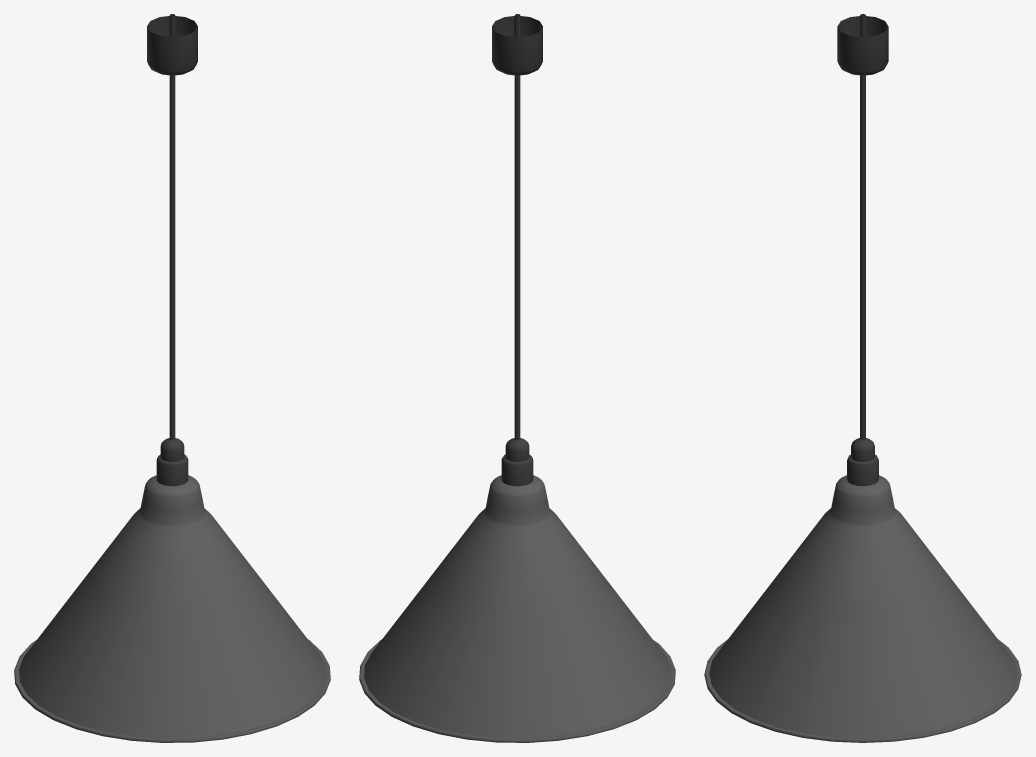
Rendered from SM_LampS1.fbx.
3 views of the same model, side by side, from view 1: azimuth 30°, elevation 25°; view 2: azimuth 150°, elevation 25°; view 3: azimuth 270°, elevation 25° (orthographic).
Parts seen in each view (by area): view 1: SM_LampS1_LOD0; view 2: SM_LampS1_LOD0; view 3: SM_LampS1_LOD0.
Boxes of the visible parts, x1,y1,x2,y2 form: SM_LampS1_LOD0: (14,14,330,742); SM_LampS1_LOD0: (359,14,675,742); SM_LampS1_LOD0: (704,14,1021,742).
Bounding box in the file's own units: 80.97 × 80.97 × 186.
Materials: 2 (2 with a texture image).
